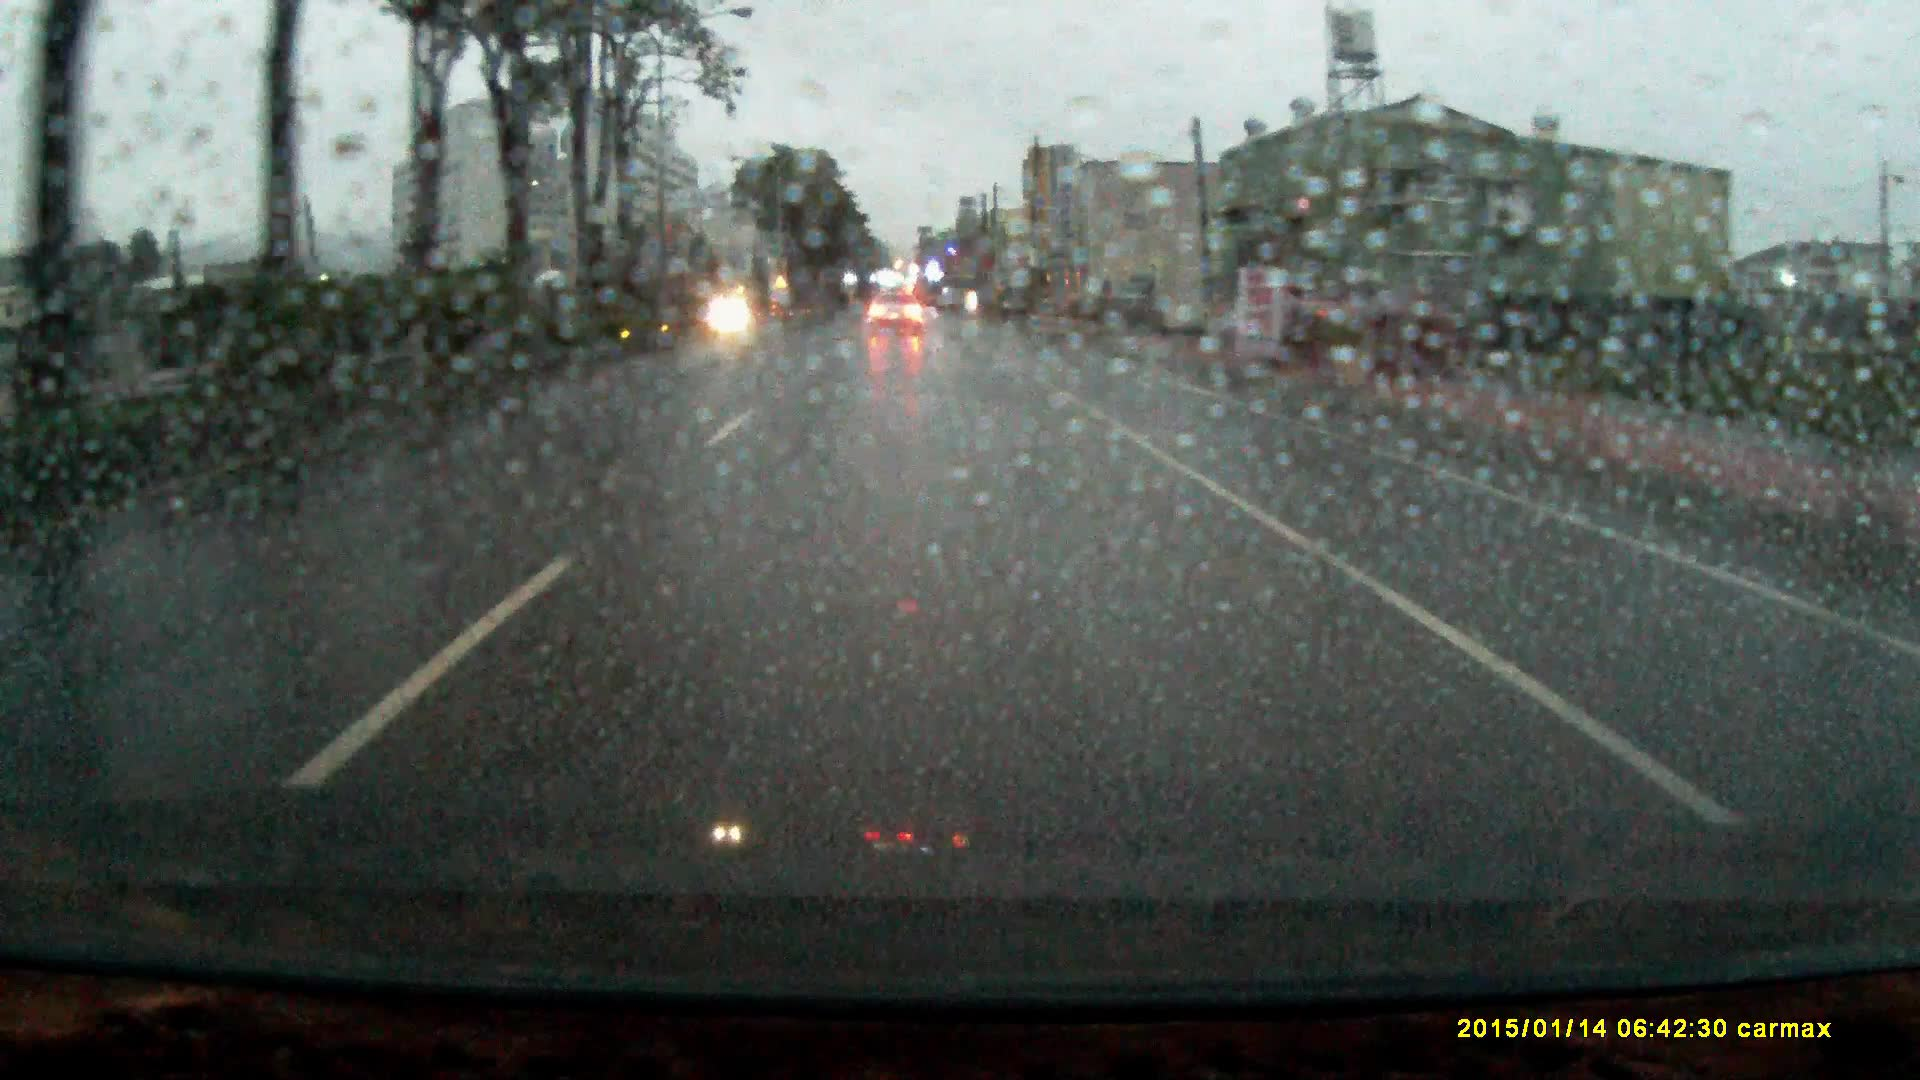vehicle: (868, 297, 924, 339)
